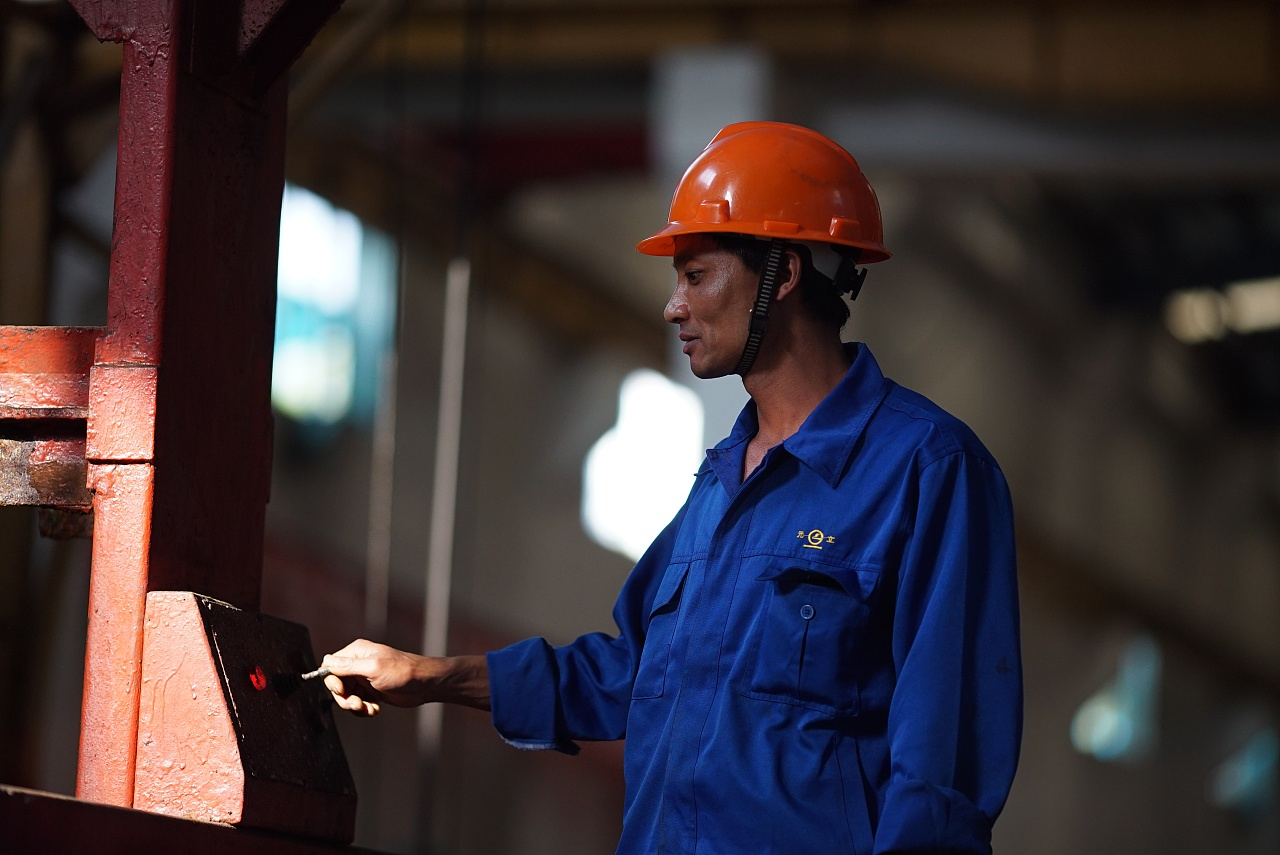safetyhat: (494, 78, 1044, 822)
